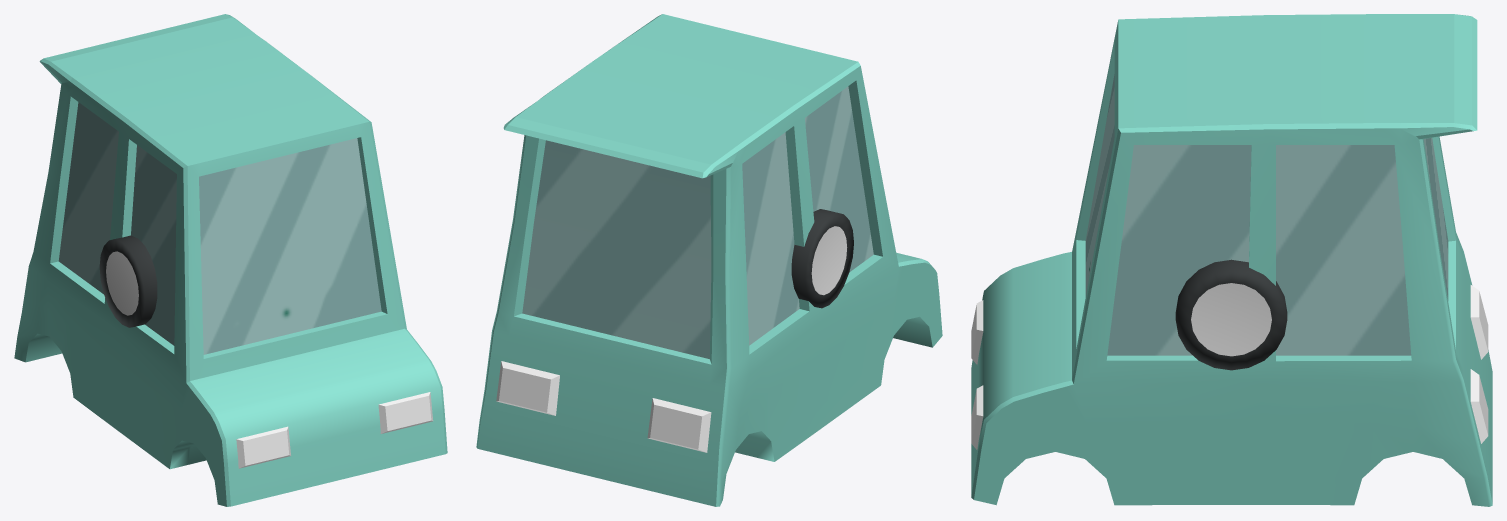
File: car_6_T.fbx
3 views of the same model, side by side, from view 1: azimuth 30°, elevation 25°; view 2: azimuth 150°, elevation 25°; view 3: azimuth 270°, elevation 25° (orthographic). The views are drawn at different scales.
Visible parts, largest first — view 1: car_6_chasis_T, car_6_right_wheel_T, car_6_back_wheel_T; view 2: car_6_chasis_T, car_6_right_wheel_T; view 3: car_6_chasis_T, car_6_back_wheel_T, car_6_left_wheel_T.
Boxes of the visible parts, x1,y1,x2,y2 form: car_6_chasis_T: (14, 14, 447, 506); car_6_right_wheel_T: (99, 235, 157, 327); car_6_back_wheel_T: (113, 239, 157, 326); car_6_chasis_T: (476, 14, 942, 506); car_6_right_wheel_T: (791, 209, 853, 308); car_6_chasis_T: (971, 14, 1492, 506); car_6_back_wheel_T: (1175, 261, 1287, 370); car_6_left_wheel_T: (1175, 259, 1287, 315).
Size of the model in its own units: 98.97 by 126 by 161.
